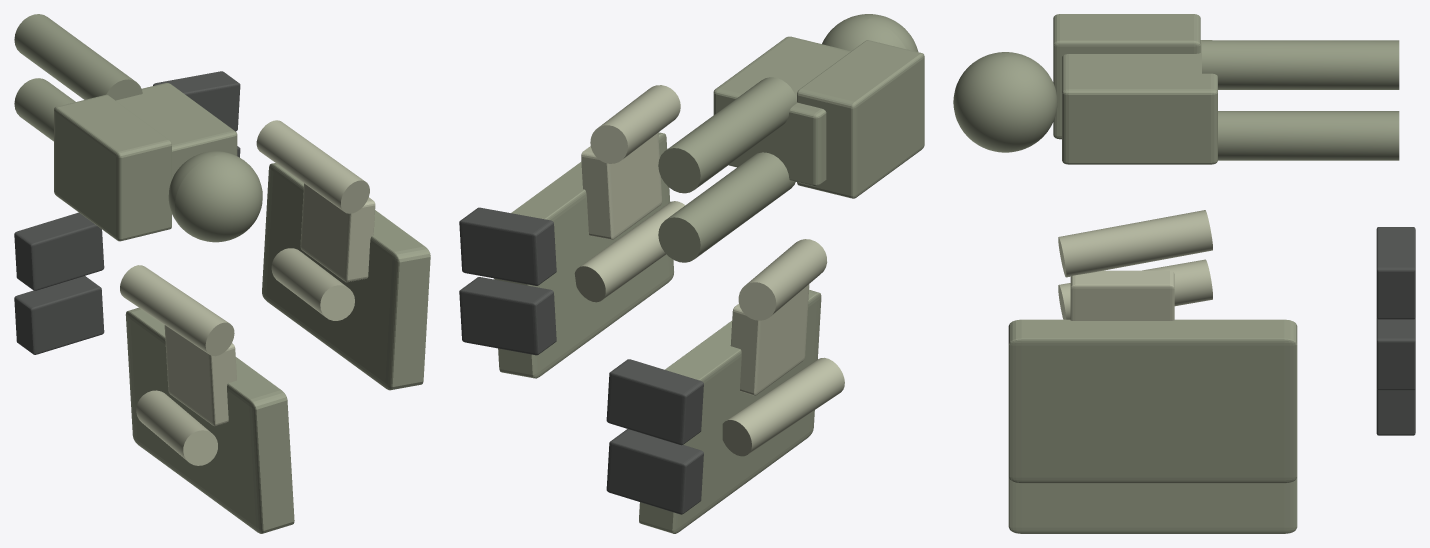
Rendered from v-u02-vanguard-assault-infantry-lod2.glb.
The picture shows the model from 3 angles, left to right: view 1: azimuth 30°, elevation 25°; view 2: azimuth 150°, elevation 25°; view 3: azimuth 270°, elevation 25°; orthographic projection. The views are drawn at different scales.
Visible parts, largest first — view 1: soldier_0_shield, soldier_2_shield, soldier_1_backpack, soldier_1_helmet, soldier_1_leg_1, soldier_2_boot_-1, soldier_2_boot_1, soldier_0_chest, soldier_1_torso, soldier_2_arm_1, soldier_0_arm_1, soldier_2_chest (+4 smaller); view 2: soldier_1_backpack, soldier_0_shield, soldier_2_shield, soldier_1_torso, soldier_1_leg_1, soldier_1_leg_-1, soldier_2_boot_1, soldier_2_boot_-1, soldier_0_boot_-1, soldier_0_boot_1, soldier_0_chest, soldier_2_arm_-1 (+5 smaller); view 3: soldier_0_shield, soldier_1_torso, soldier_2_shield, soldier_1_leg_1, soldier_1_leg_-1, soldier_1_helmet, soldier_1_backpack, soldier_0_arm_1, soldier_0_chest, soldier_0_boot_1, soldier_0_boot_-1, soldier_2_arm_1 (+1 smaller).
Boxes of the visible parts, bbox=[...] form: soldier_0_shield: bbox=[262, 163, 430, 390]; soldier_2_shield: bbox=[125, 307, 294, 533]; soldier_1_backpack: bbox=[54, 94, 171, 241]; soldier_1_helmet: bbox=[168, 151, 262, 242]; soldier_1_leg_1: bbox=[14, 14, 142, 100]; soldier_2_boot_-1: bbox=[14, 276, 104, 354]; soldier_2_boot_1: bbox=[14, 212, 104, 290]; soldier_0_chest: bbox=[300, 183, 375, 282]; soldier_1_torso: bbox=[116, 83, 237, 179]; soldier_2_arm_1: bbox=[120, 265, 234, 356]; soldier_0_arm_1: bbox=[256, 120, 369, 213]; soldier_2_chest: bbox=[164, 325, 236, 426]; soldier_1_backpack: bbox=[797, 40, 924, 198]; soldier_0_shield: bbox=[494, 132, 673, 378]; soldier_2_shield: bbox=[639, 289, 821, 533]; soldier_1_torso: bbox=[713, 36, 850, 186]; soldier_1_leg_1: bbox=[658, 77, 796, 193]; soldier_1_leg_-1: bbox=[658, 152, 795, 262]; soldier_2_boot_1: bbox=[606, 359, 703, 445]; soldier_2_boot_-1: bbox=[606, 429, 703, 514]; soldier_0_boot_-1: bbox=[459, 277, 556, 355]; soldier_0_boot_1: bbox=[459, 207, 556, 285]; soldier_0_chest: bbox=[581, 133, 662, 239]; soldier_2_arm_-1: bbox=[722, 357, 844, 456]; soldier_0_shield: bbox=[1008, 319, 1297, 483]; soldier_1_torso: bbox=[1062, 40, 1217, 164]; soldier_2_shield: bbox=[1008, 477, 1297, 533]; soldier_1_leg_1: bbox=[1202, 40, 1399, 89]; soldier_1_leg_-1: bbox=[1218, 111, 1399, 160]; soldier_1_helmet: bbox=[953, 52, 1057, 152]; soldier_1_backpack: bbox=[1053, 14, 1200, 139]; soldier_0_arm_1: bbox=[1058, 210, 1212, 277]; soldier_0_chest: bbox=[1070, 270, 1174, 320]; soldier_0_boot_1: bbox=[1376, 227, 1415, 319]; soldier_0_boot_-1: bbox=[1376, 317, 1415, 390]; soldier_2_arm_1: bbox=[1058, 259, 1212, 319].
Size of what is drawn, in the model's own units: 1.72 by 2.28 by 2.13.
